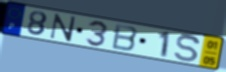1: (157, 31, 172, 59)
3: (84, 20, 109, 48)
8: (26, 11, 49, 37)
B: (110, 23, 140, 53)
N: (48, 13, 78, 43)
S: (174, 34, 202, 64)
